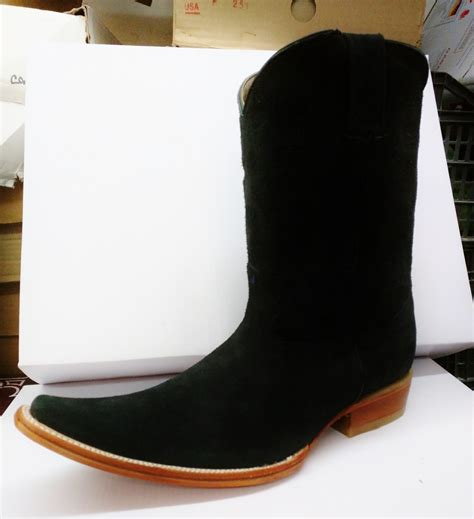gamuza: (27, 30, 429, 471)
